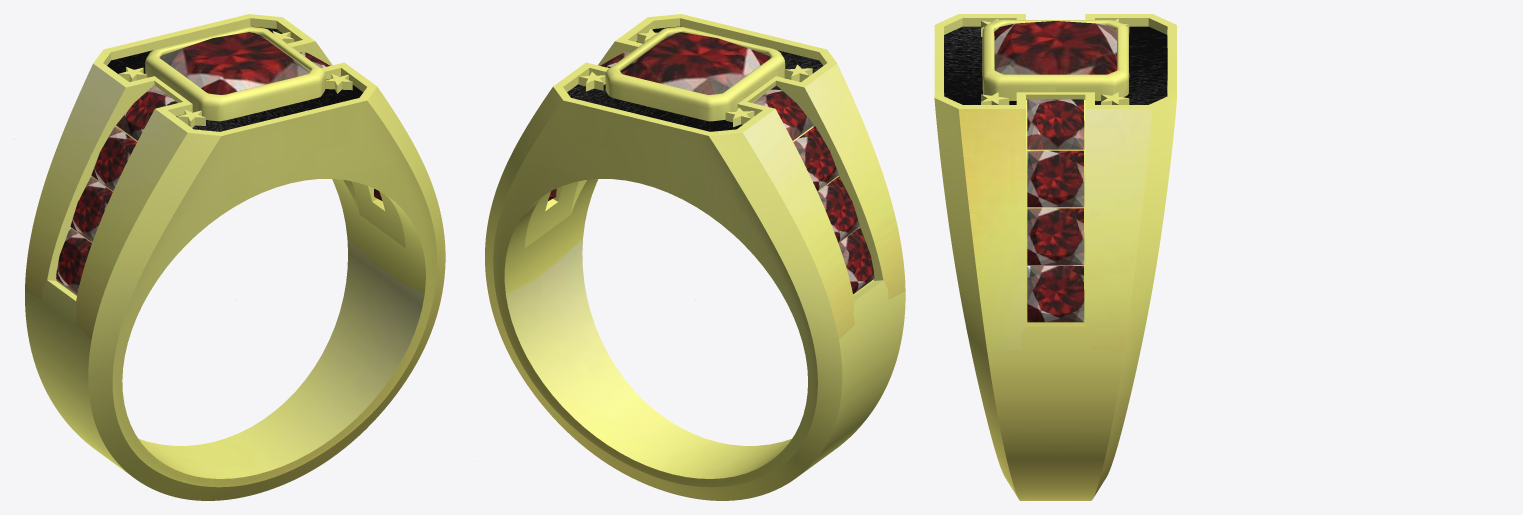
The model's file is ring26.glb.
The picture shows the model from 3 angles, left to right: view 1: azimuth 30°, elevation 25°; view 2: azimuth 150°, elevation 25°; view 3: azimuth 270°, elevation 25°; orthographic projection. The views are drawn at different scales.
Visible parts, largest first — view 1: body, core, black, Object_24, Object_55, Object_52, Object_26; view 2: body, core, black, Object_24, Object_55, Object_52, Object_26; view 3: body, core, black, Object_24.002, Object_55.002, Object_52.002, Object_26.002.
Boxes of the visible parts, x1,y1,x2,y2 form: body: (25, 14, 445, 500); core: (160, 32, 309, 94); black: (107, 26, 363, 131); Object_24: (91, 126, 136, 190); Object_55: (70, 176, 112, 242); Object_52: (56, 227, 91, 294); Object_26: (116, 85, 177, 140); body: (485, 14, 905, 500); core: (620, 32, 770, 94); black: (567, 26, 822, 131); Object_24: (793, 126, 838, 191); Object_55: (817, 176, 859, 242); Object_52: (838, 227, 874, 293); Object_26: (753, 85, 813, 140); body: (934, 14, 1176, 500); core: (994, 21, 1116, 74); black: (944, 26, 1167, 104); Object_24.002: (1027, 150, 1084, 207); Object_55.002: (1027, 208, 1084, 265); Object_52.002: (1027, 266, 1084, 322); Object_26.002: (1027, 99, 1084, 149).
Size of the model in its own units: 22.31 by 25.76 by 30.37.
Materials: 4 (4 with a texture image).
